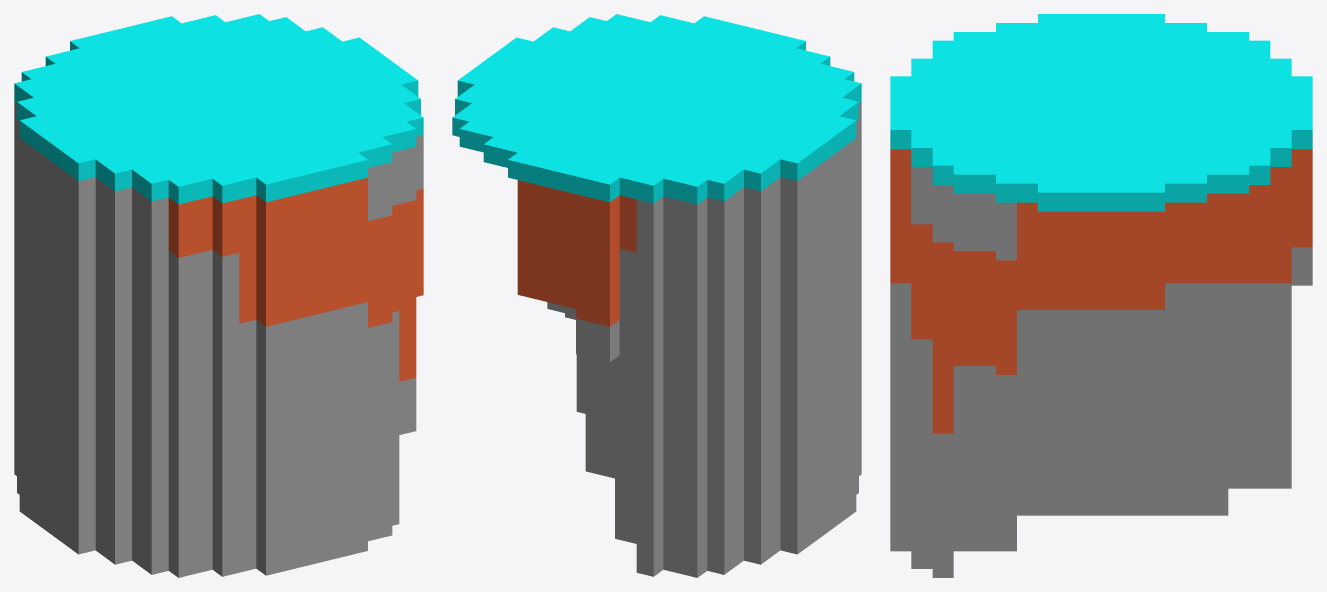
Rendered from Mine4-2_ORIG.obj.
3 renders of one model, left to right at view 1: azimuth 30°, elevation 25°; view 2: azimuth 150°, elevation 25°; view 3: azimuth 270°, elevation 25°, orthographic. The views are drawn at different scales.
Size of the model in its own units: 2 by 2.2 by 2.
